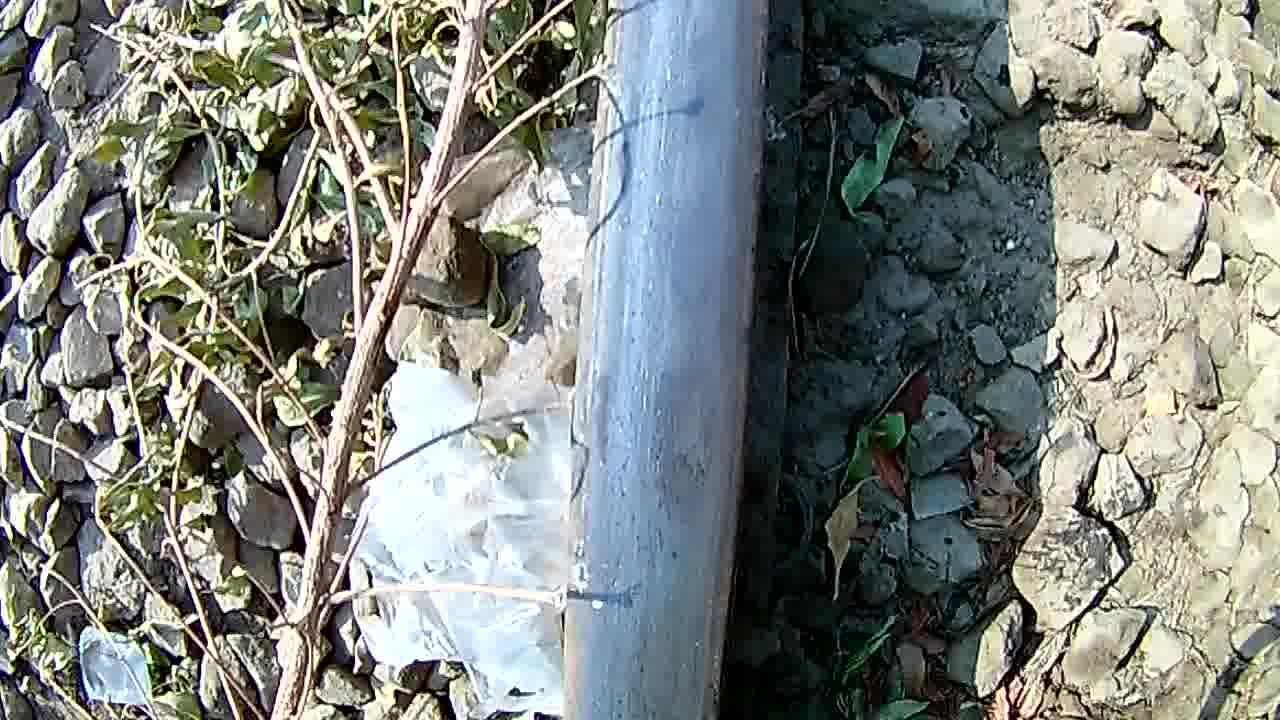crack: (568, 305, 757, 636)
